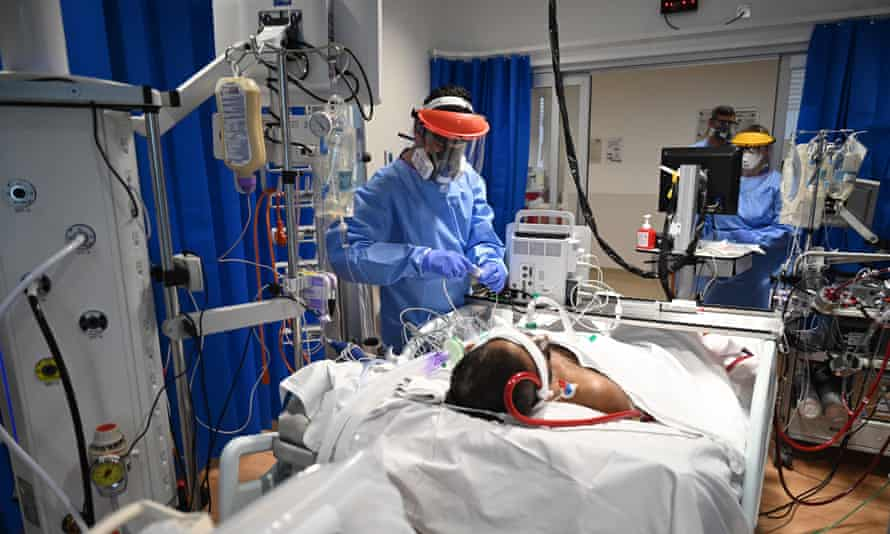bedrail: (221, 430, 300, 534)
bedside_monitor: (213, 1, 383, 106), (656, 145, 744, 216)
curtain: (1, 1, 326, 534), (792, 13, 890, 273), (430, 52, 530, 264)
dispenser: (633, 212, 659, 260)
hospital_bed: (71, 293, 784, 533)
iv_pole: (225, 34, 345, 413), (800, 117, 845, 281)
patient: (447, 331, 656, 427)
staff: (320, 89, 509, 356), (664, 125, 788, 312), (690, 105, 738, 145)
